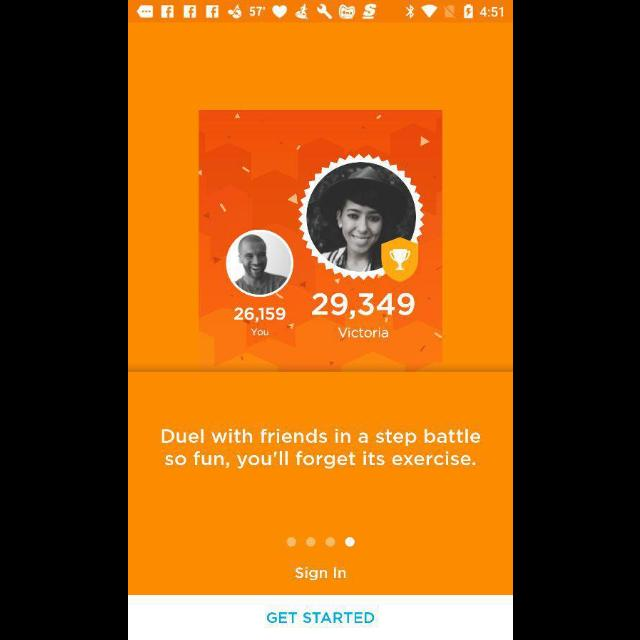image: (198, 110, 442, 372)
pageindicator: (286, 536, 354, 548)
text: (162, 429, 480, 469), (294, 567, 346, 581)
textbutton: (128, 596, 512, 640)
uppertaskbar: (128, 1, 512, 23)
